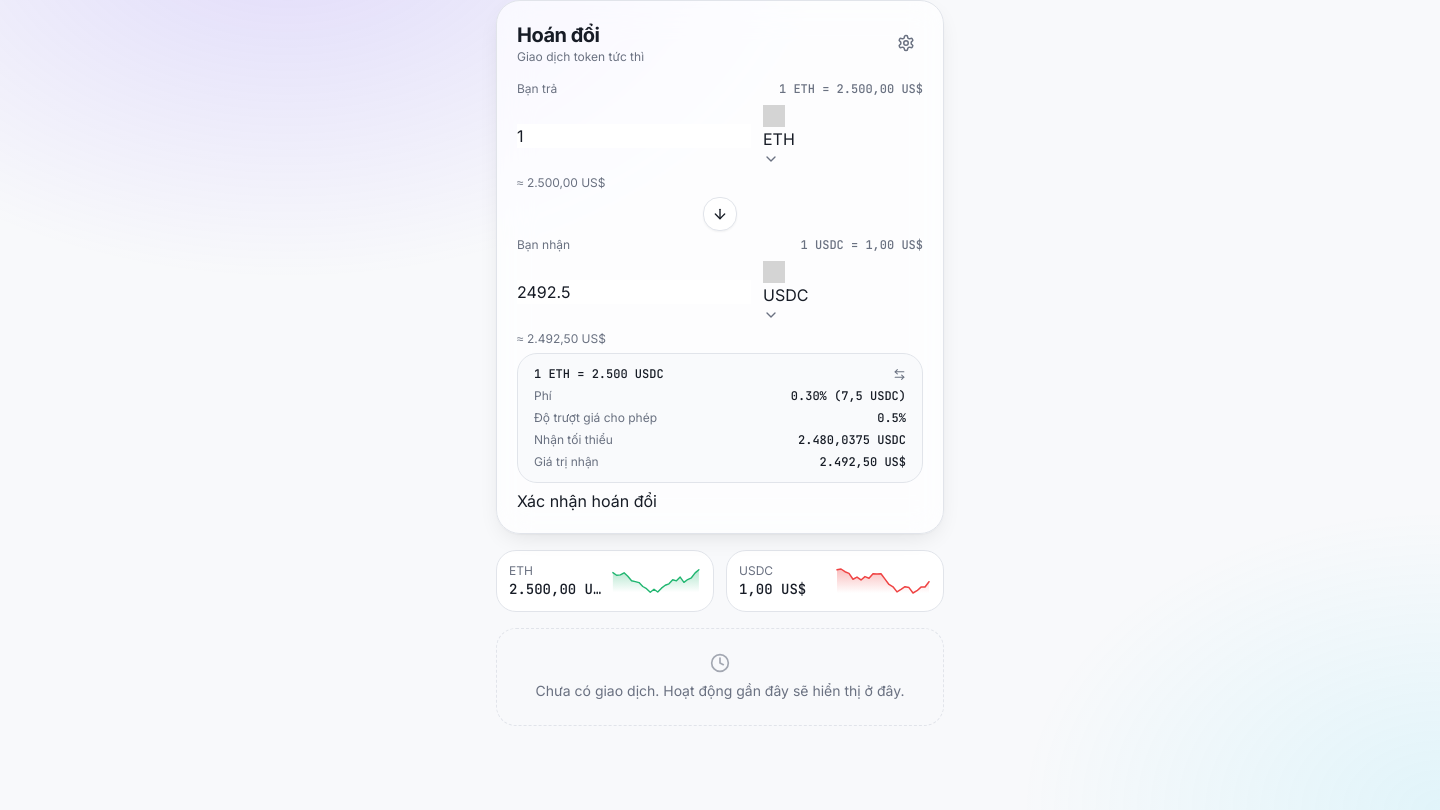
SwapCard integration (vi locale) › renders Vietnamese labels and rejects clearing the amount
Clear the field labelled "Bạn trả": [634, 136] box 517,124 -> 751,148
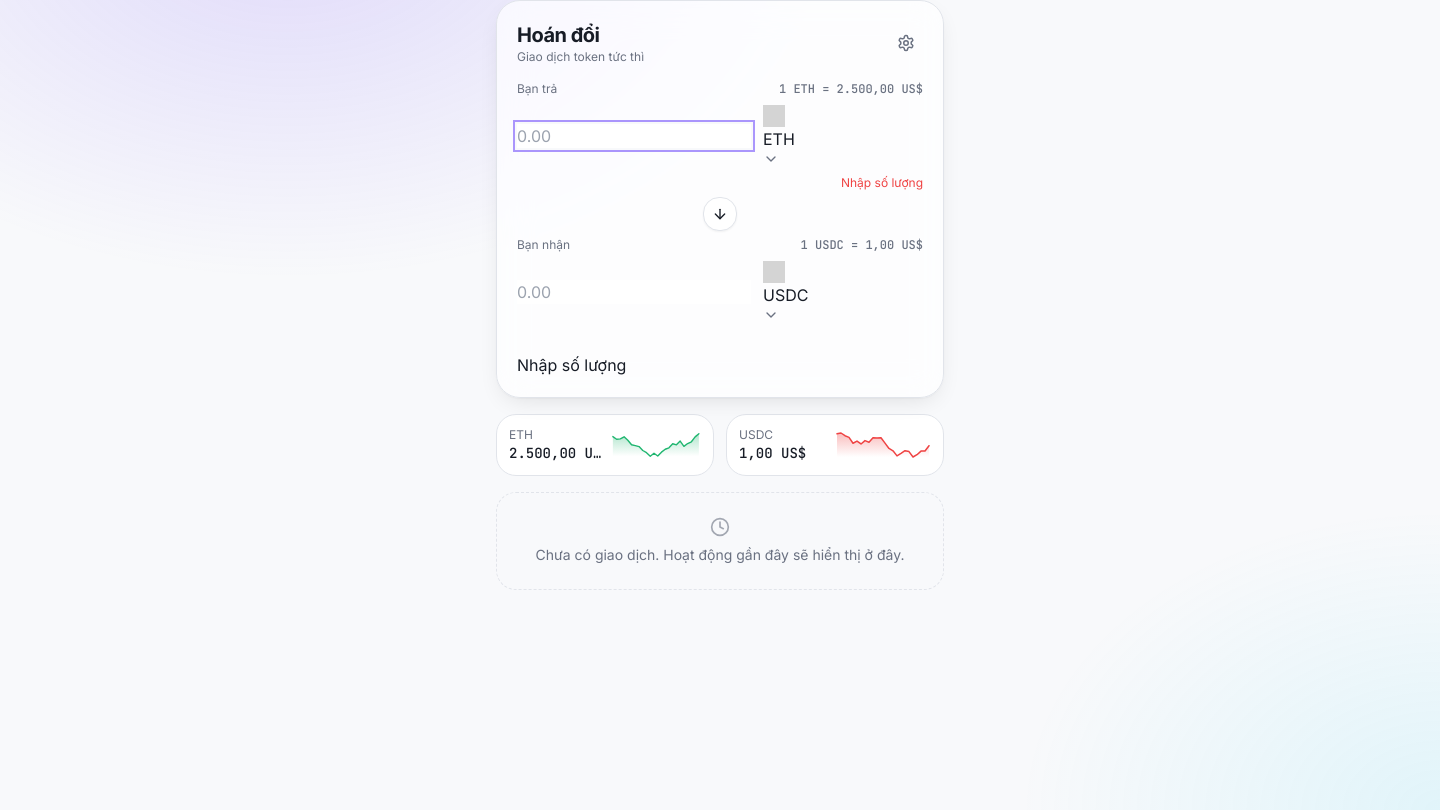
Now the button "Nhập số lượng" is disabled, box 517,353 -> 626,377
